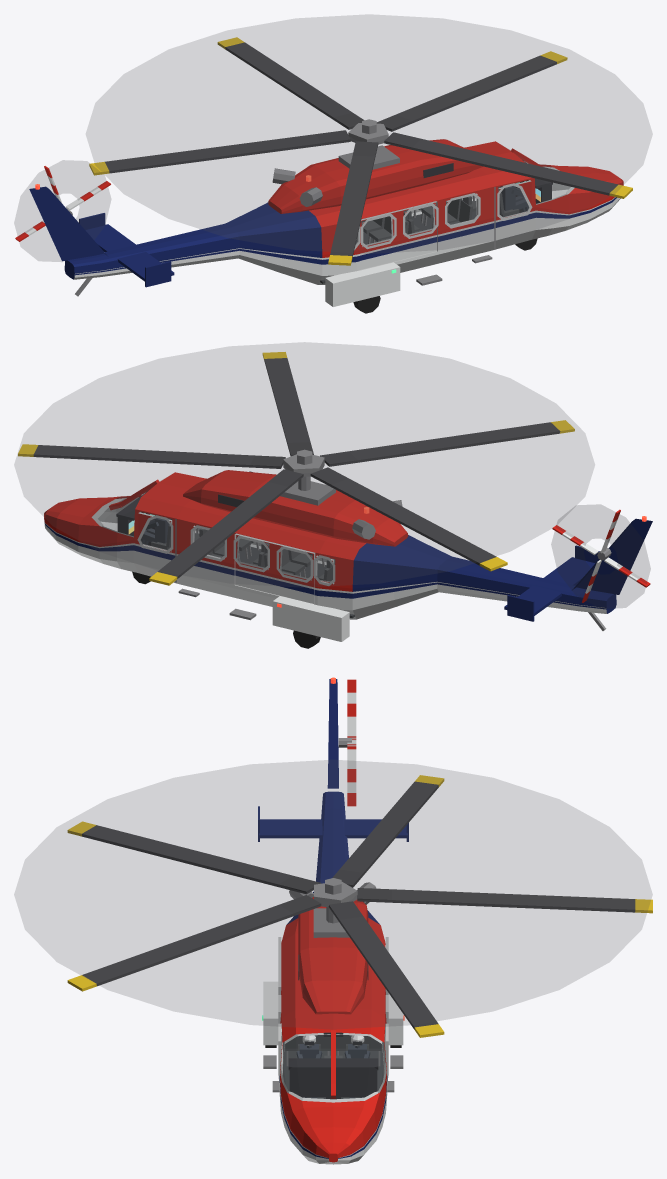
The model's file is heli.glb.
3 renders of one model, top to bottom at view 1: azimuth 30°, elevation 25°; view 2: azimuth 150°, elevation 25°; view 3: azimuth 270°, elevation 25°, orthographic. The views are drawn at different scales.
Parts seen in each view (by area): view 1: HeliMainDisc, HeliBody, HeliMainRotor, HeliTailDisc, HeliDoorR, HeliTailRotor; view 2: HeliMainDisc, HeliBody, HeliMainRotor, HeliTailDisc, HeliDoorL, HeliTailRotor; view 3: HeliMainDisc, HeliBody, HeliMainRotor, HeliTailRotor.
Boxes of the visible parts, left/top/right/bottom form: HeliMainDisc: left=86, top=15, right=652, bottom=253; HeliBody: left=29, top=139, right=623, bottom=306; HeliMainRotor: left=89, top=37, right=632, bottom=265; HeliTailDisc: left=14, top=160, right=110, bottom=261; HeliDoorR: left=360, top=202, right=438, bottom=270; HeliTailRotor: left=15, top=166, right=110, bottom=241; HeliMainDisc: left=14, top=342, right=594, bottom=586; HeliBody: left=44, top=470, right=652, bottom=641; HeliMainRotor: left=18, top=352, right=574, bottom=585; HeliTailDisc: left=551, top=505, right=650, bottom=608; HeliDoorL: left=233, top=535, right=313, bottom=603; HeliTailRotor: left=552, top=509, right=650, bottom=602; HeliMainDisc: left=14, top=760, right=652, bottom=1028; HeliBody: left=258, top=677, right=408, bottom=1164; HeliMainRotor: left=67, top=775, right=652, bottom=1037; HeliTailRotor: left=338, top=679, right=356, bottom=806.
Bounding box in the file's own units: 17.8 × 5.39 × 14.6.
